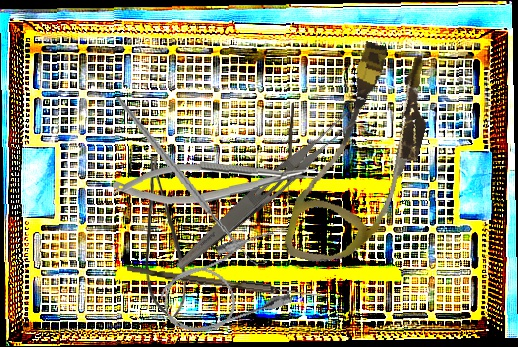Cannula: (281, 34, 444, 281), (151, 225, 299, 346)
Dressing Forceps: (172, 106, 360, 279)
Hook Surgical: (115, 78, 267, 283)
Micro Scissor: (145, 157, 187, 317)
Needle Holder: (112, 157, 318, 208)
Surgical Spoon: (126, 265, 326, 301), (285, 102, 295, 211)
